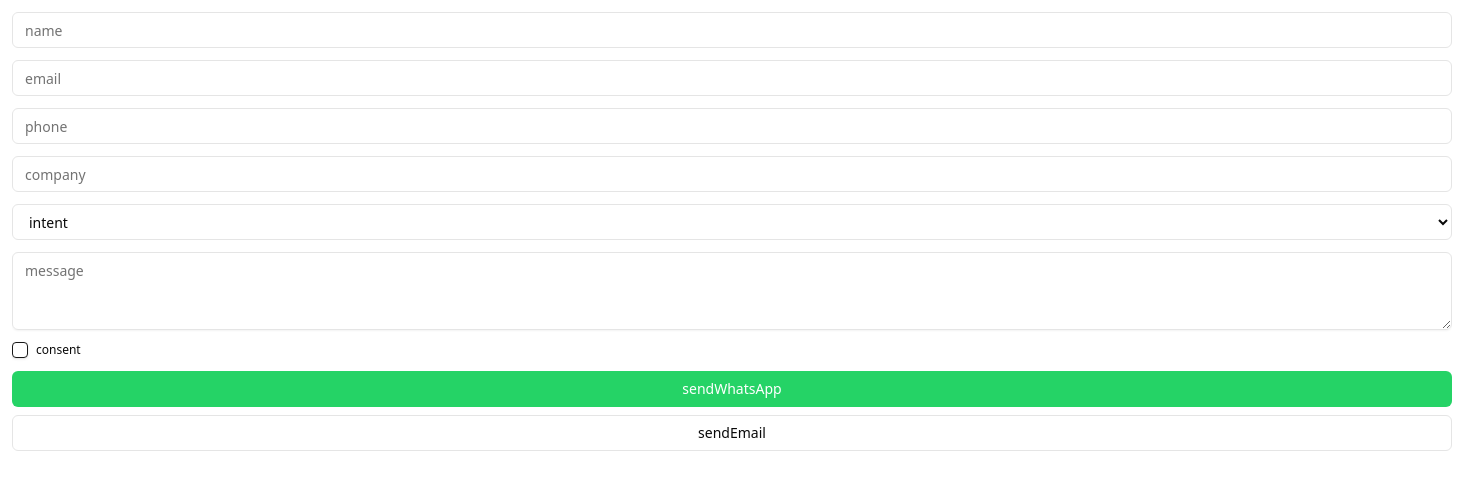
LeadForm › blocks submission without a valid email and never calls the server or opens a channel
Click the button "sendEmail" at (732, 432), box 12,414 -> 1452,450
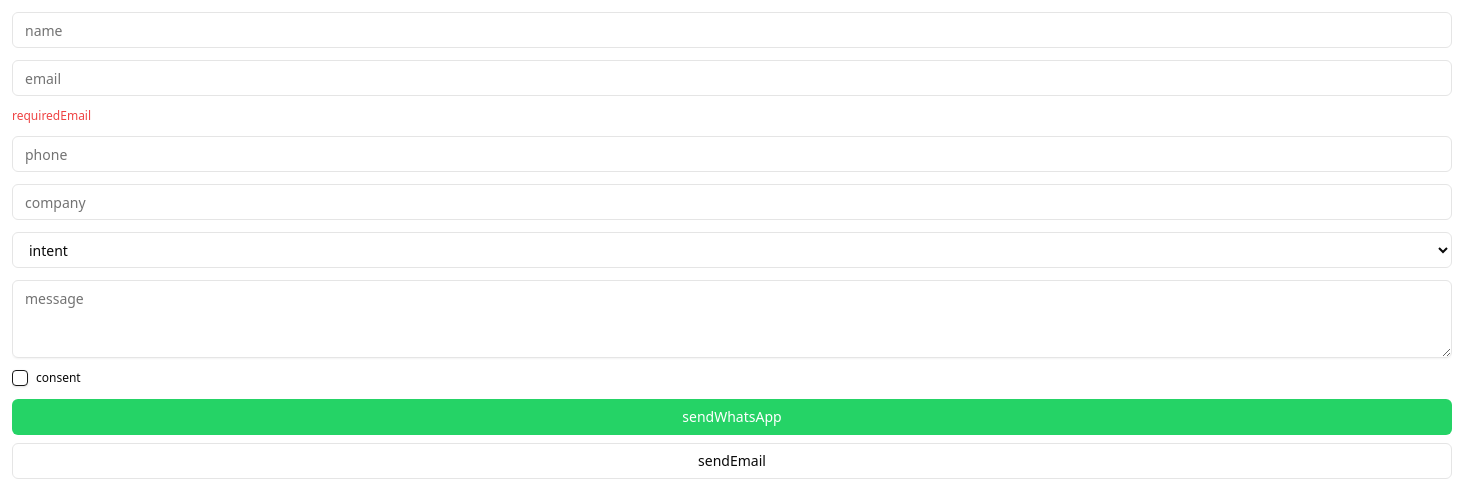
Result: the text "requiredEmail" is shown at 12,107 -> 91,124
